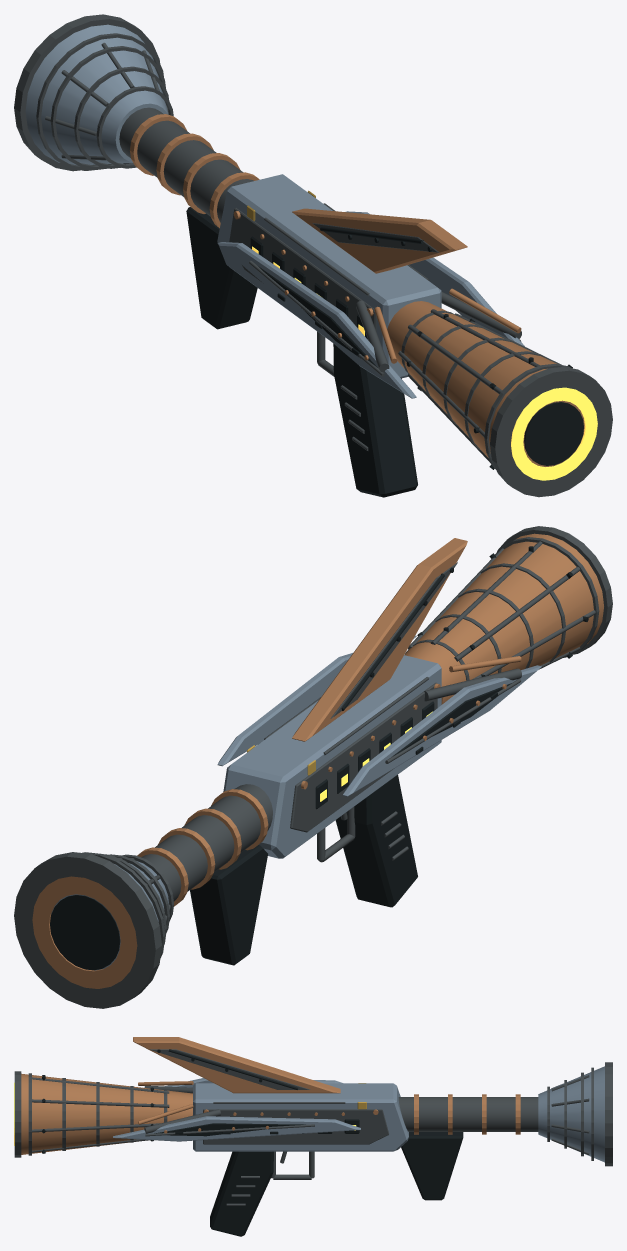
Rendered from kick_4.glb.
3 views of the same model, one above another, from view 1: azimuth 30°, elevation 25°; view 2: azimuth 150°, elevation 25°; view 3: azimuth 270°, elevation 25° (orthographic). The views are drawn at different scales.
Visible parts, largest first — view 1: Weapon_kick_v1; view 2: Weapon_kick_v1; view 3: Weapon_kick_v1.
Boxes of the visible parts, <box> form: Weapon_kick_v1: <box>14,14,612,497</box>; Weapon_kick_v1: <box>14,526,612,1008</box>; Weapon_kick_v1: <box>14,1037,612,1236</box>.
Size of the model in its own units: 0.1551 by 0.3139 by 0.884.
